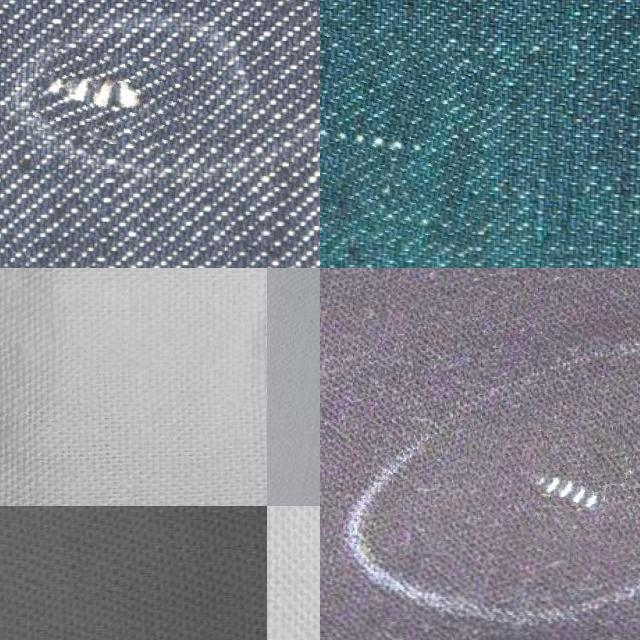stains: (320, 23, 501, 247), (487, 420, 640, 554), (36, 49, 189, 147)
